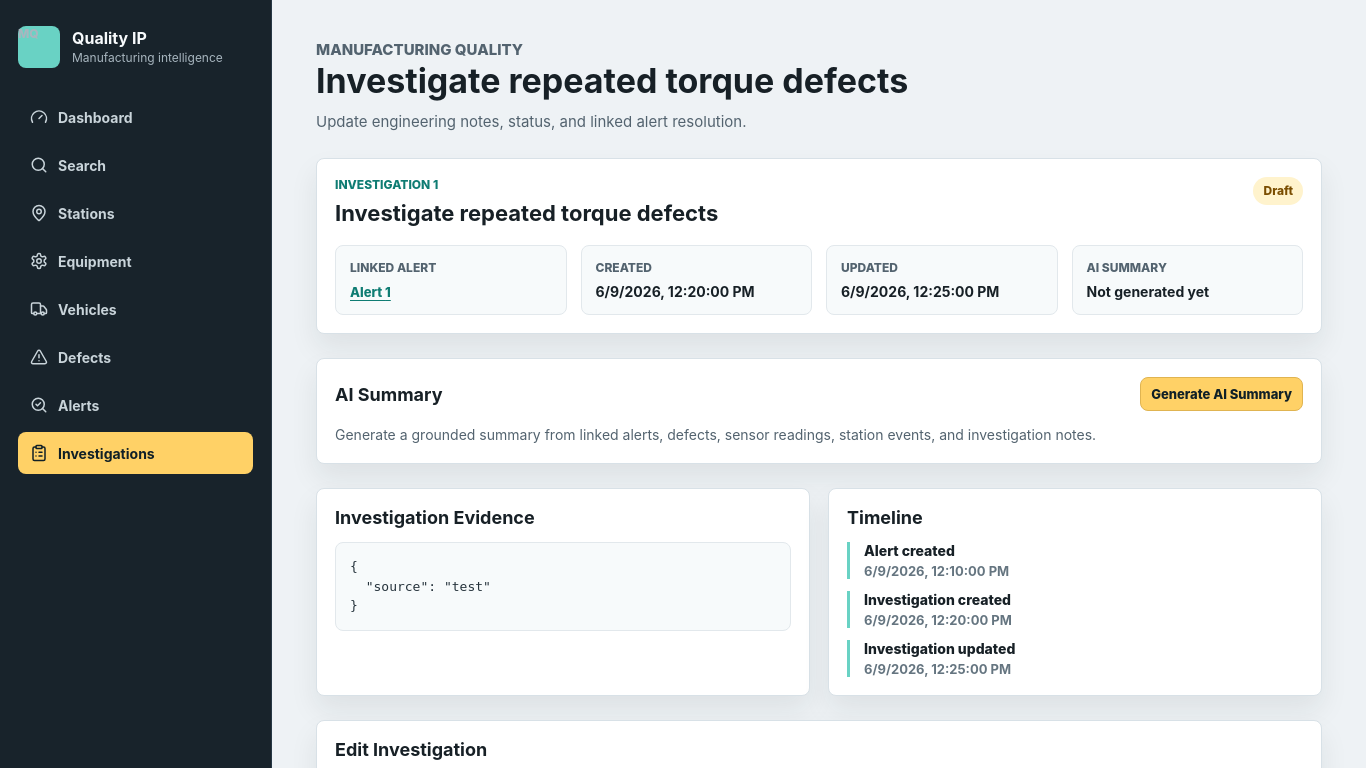
it: Phase 11 workflow pages › renders an AI summary error state if generation fails
The width and height of the screenshot is (1366, 768).
Click the button "Generate AI Summary". click: [1222, 394]
box: [1140,377,1303,411]
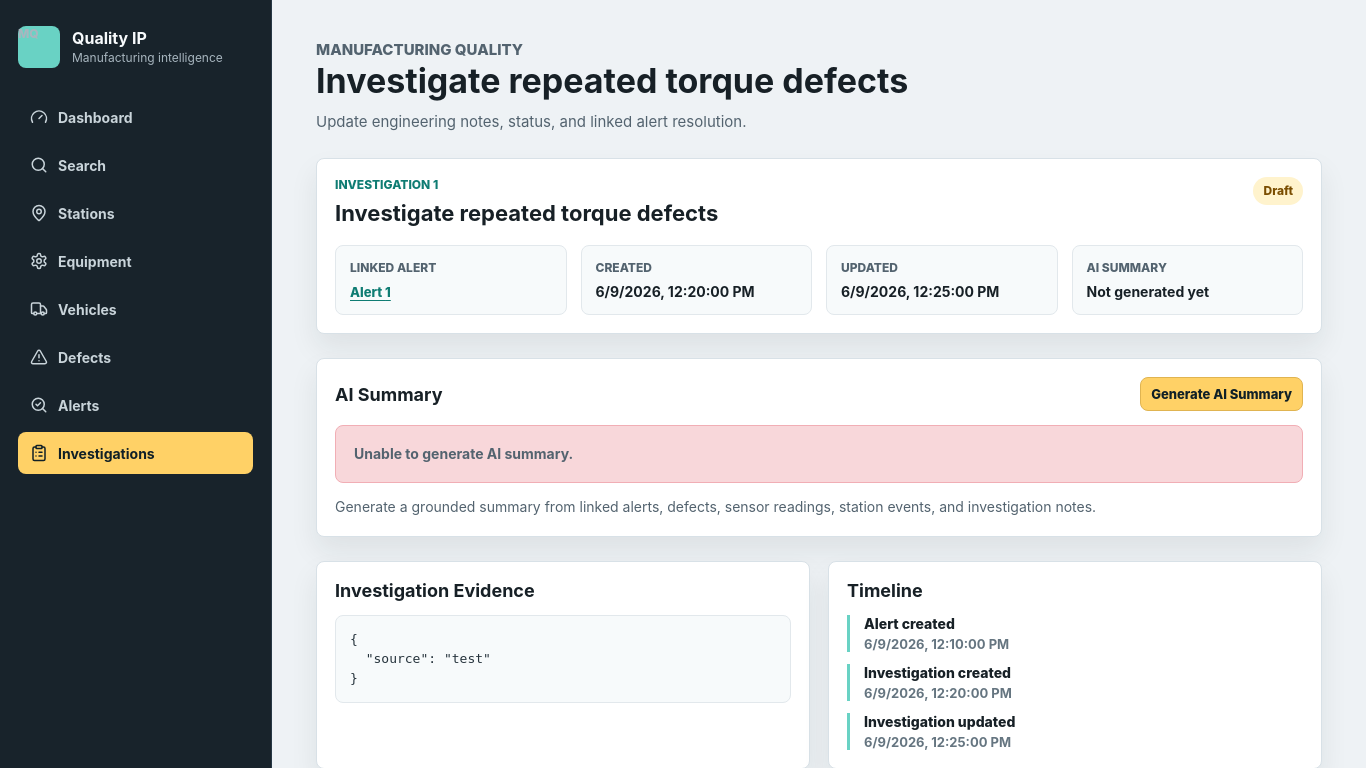
Expected: the text "Unable to generate AI summary." is shown, [335,425,1303,483]
